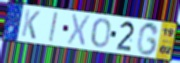2: (116, 20, 135, 52)
G: (135, 21, 160, 57)
I: (47, 11, 59, 43)
K: (20, 8, 42, 41)
O: (90, 17, 112, 49)
X: (66, 13, 92, 48)
